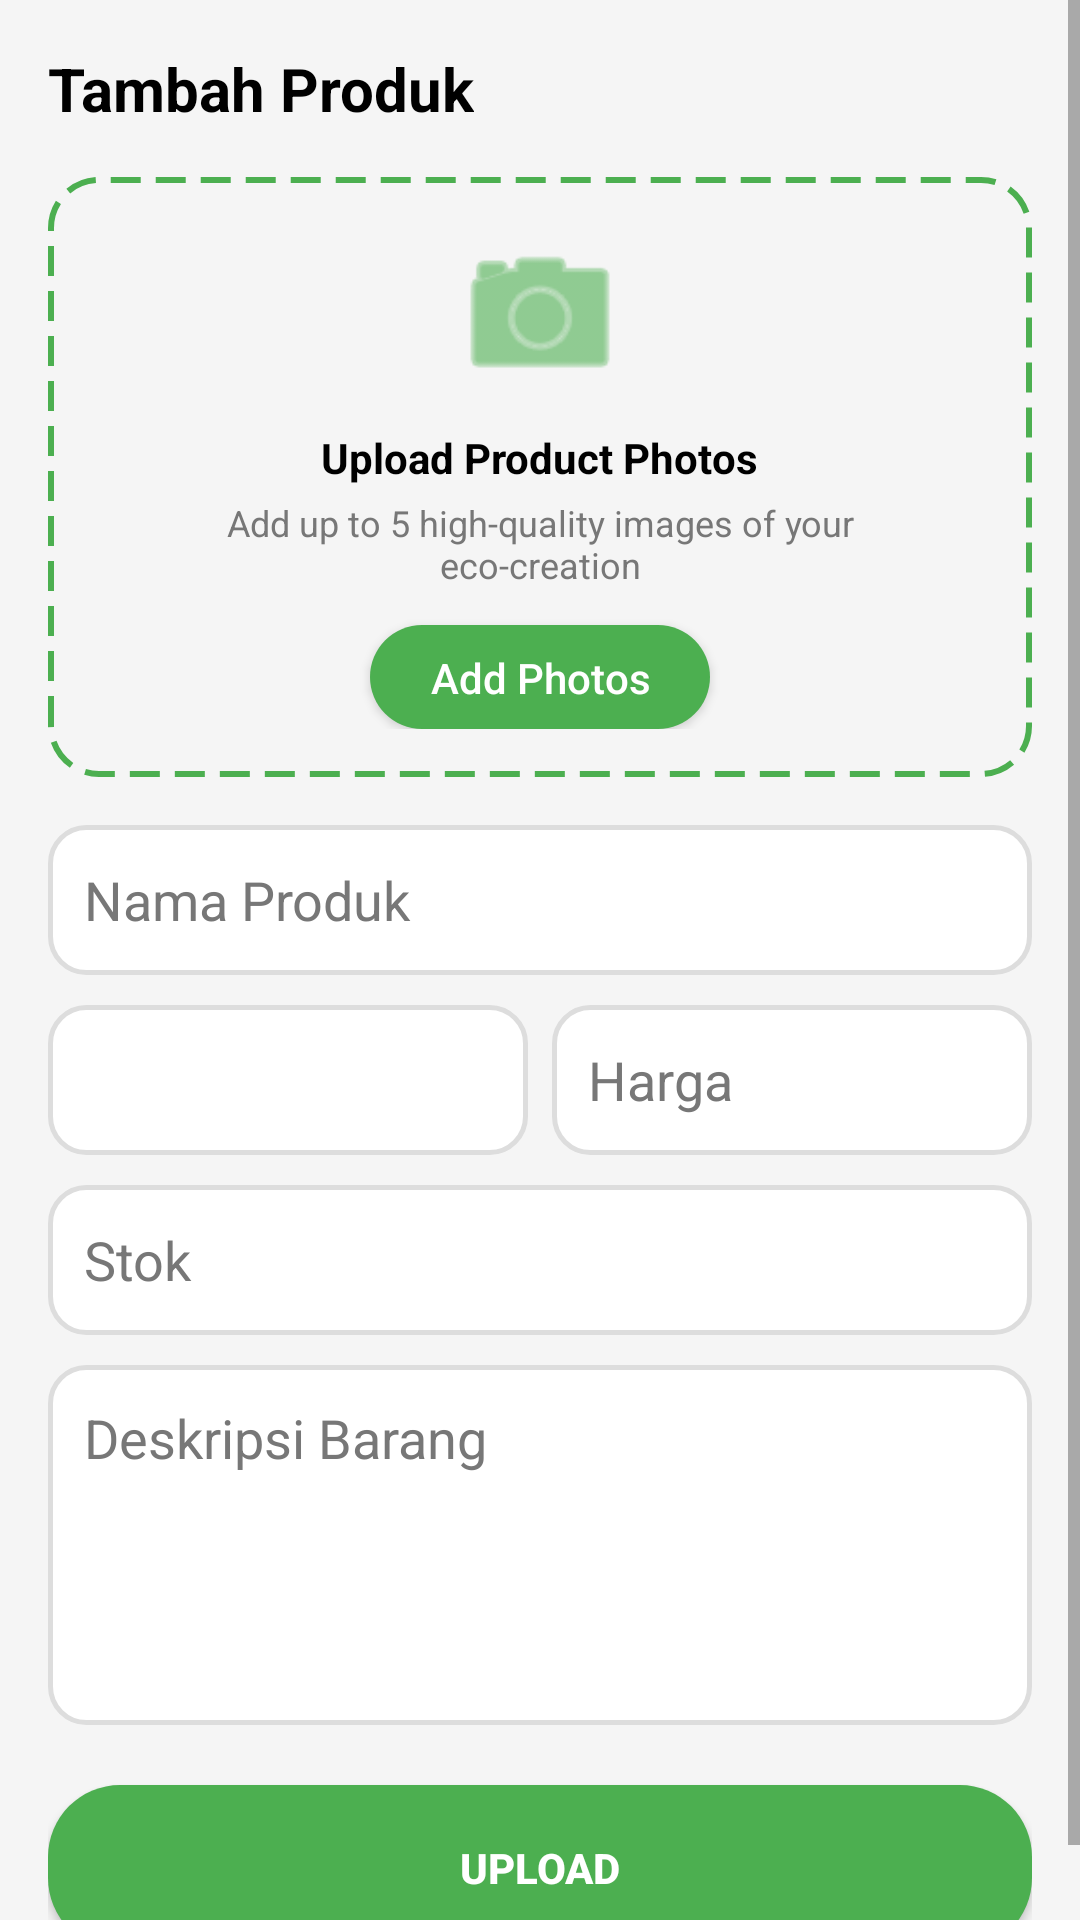

Locate icon controls on the screen. Image size 1080 × 1920, boxes as (x1, y1, x2, y2).
camera: (471, 257, 609, 367)
